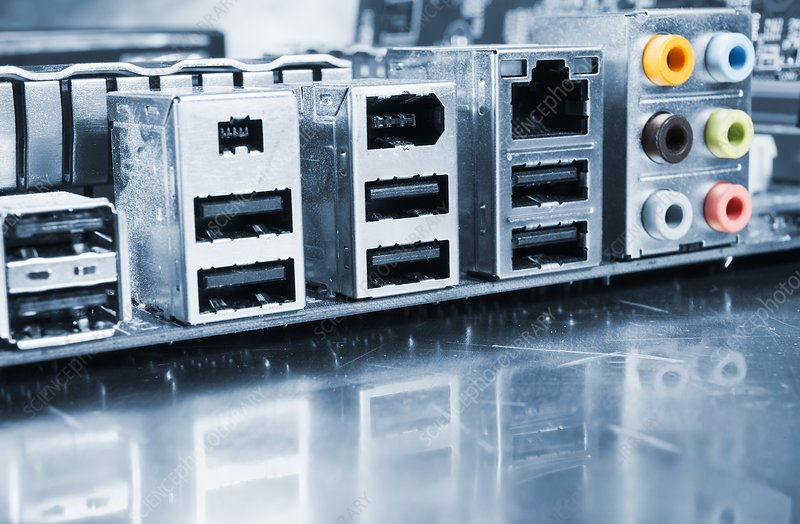Audio: (643, 27, 695, 89), (640, 186, 693, 244), (707, 27, 757, 86), (643, 109, 694, 164), (702, 181, 755, 232), (706, 105, 755, 159)
Ethernet: (511, 62, 602, 144)
USB: (192, 258, 302, 317), (194, 188, 297, 246), (363, 240, 454, 288), (356, 176, 453, 221), (507, 219, 598, 266), (506, 158, 591, 208)
